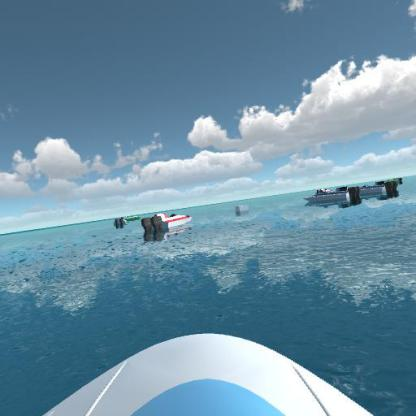usv0: (109, 210, 144, 230), (384, 169, 407, 185)
usv1: (346, 177, 406, 200), (300, 186, 362, 208)
usv3: (135, 206, 200, 238), (314, 180, 336, 194)
